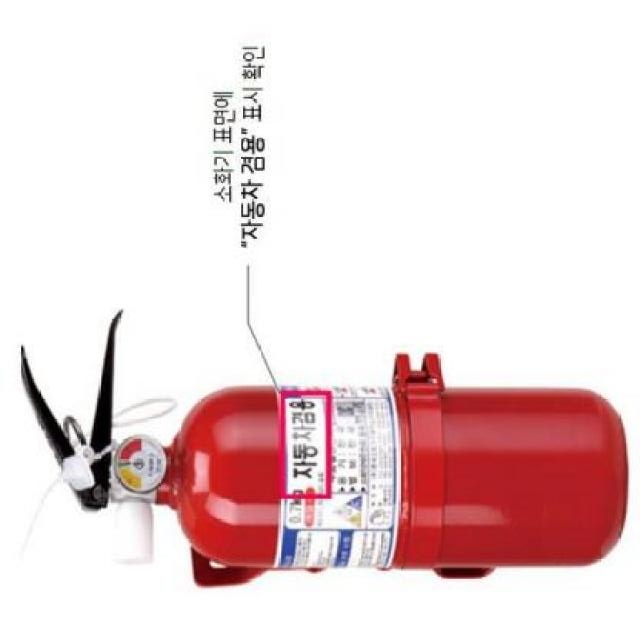fire extinguisher: (19, 308, 630, 588)
